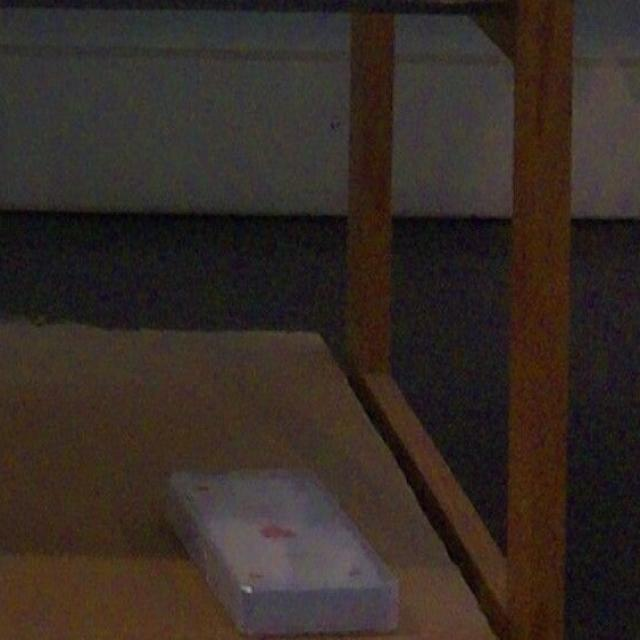Jasskarte: (167, 472, 397, 636)
